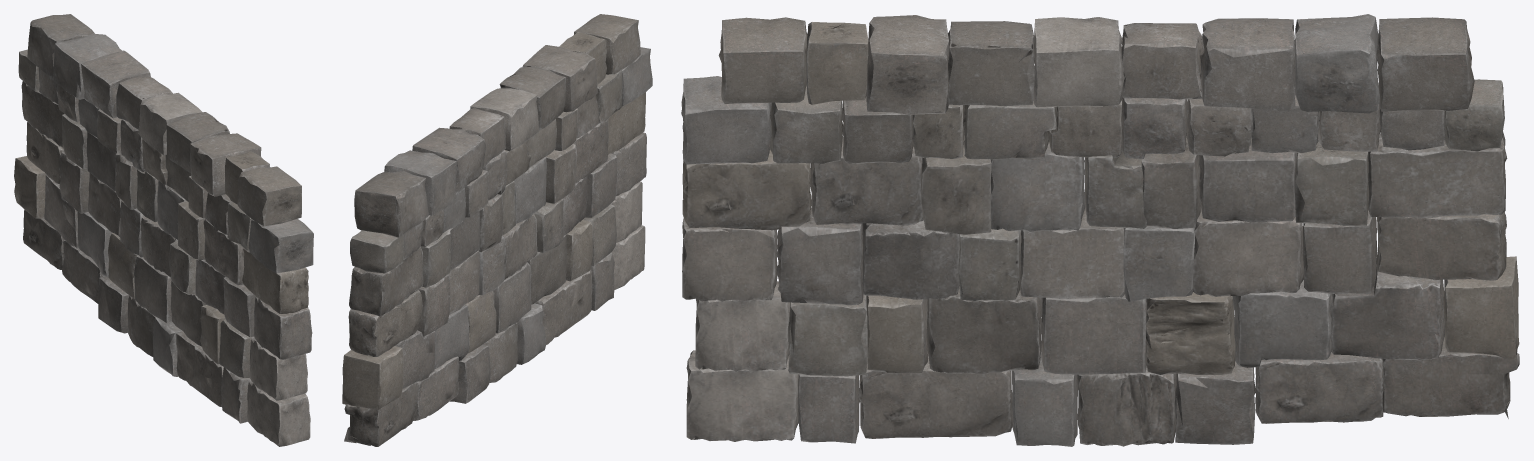
File: SM_W_Mountain.fbx
3 views of the same model, side by side, from view 1: azimuth 30°, elevation 25°; view 2: azimuth 150°, elevation 25°; view 3: azimuth 270°, elevation 25° (orthographic). The views are drawn at different scales.
Visible parts, largest first — view 1: SM_W_Mountain; view 2: SM_W_Mountain; view 3: SM_W_Mountain.
Part boxes in pixels (x1,y1,x2,y2): SM_W_Mountain: (14, 14, 313, 446); SM_W_Mountain: (342, 14, 652, 446); SM_W_Mountain: (681, 14, 1519, 446).
Bounding box in the file's own units: 76.6 × 672 × 359.
Materials: 3 (3 with a texture image).
